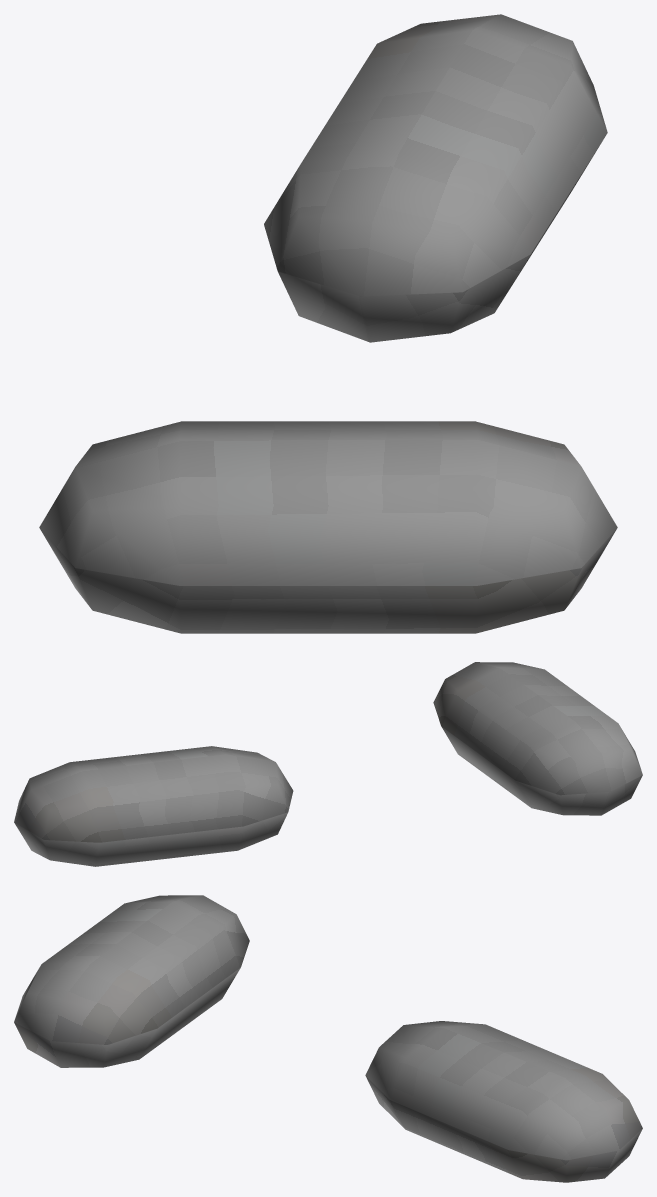
The model's file is pills_1.obj.
The picture shows the model from 3 angles, top to bottom: view 1: azimuth 30°, elevation 25°; view 2: azimuth 150°, elevation 25°; view 3: azimuth 270°, elevation 25°; orthographic projection. The views are drawn at different scales.
Visible parts, largest first — view 1: pills_1; view 2: pills_1; view 3: pills_1.
Boxes of the visible parts, box(x1,y1,x2,y2) form: pills_1: box(39, 14, 617, 633); pills_1: box(14, 662, 642, 866); pills_1: box(14, 895, 642, 1182).
Bounding box in the file's own units: 0.0648 × 0.0123 × 0.0711.
